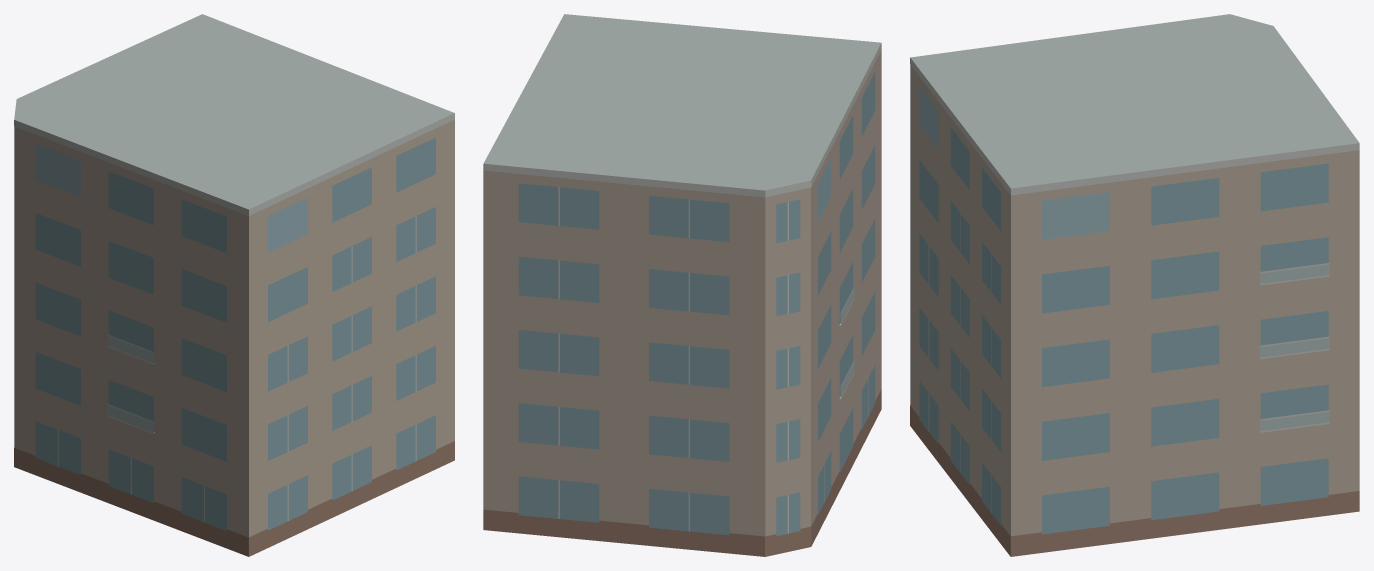
The model's file is survey-upis-32667189.glb.
3 renders of one model, left to right at view 1: azimuth 30°, elevation 25°; view 2: azimuth 150°, elevation 25°; view 3: azimuth 270°, elevation 25°, orthographic. The views are drawn at different scales.
Visible parts, largest first — view 1: survey-upis-32667189.tmp; view 2: survey-upis-32667189.tmp; view 3: survey-upis-32667189.tmp.
Boxes of the visible parts, <box> form: survey-upis-32667189.tmp: <box>14,14,454,556</box>; survey-upis-32667189.tmp: <box>483,14,881,556</box>; survey-upis-32667189.tmp: <box>910,14,1359,556</box>.
Size of the model in its own units: 13.23 by 13 by 14.39.
